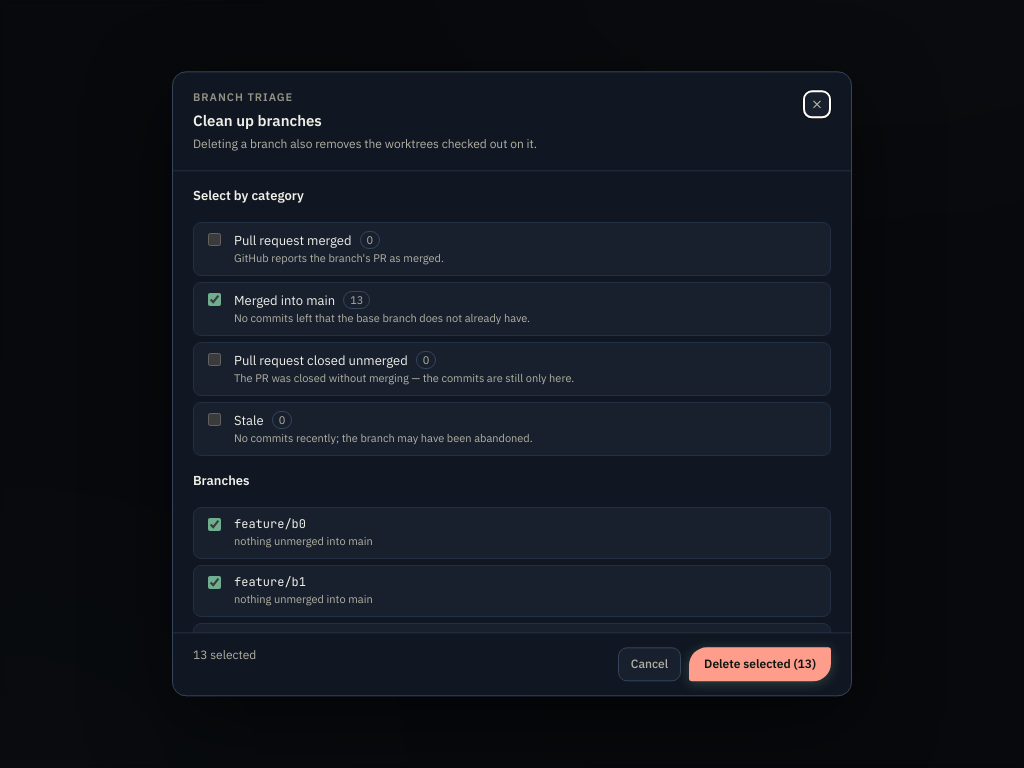
Test: a double-digit run shows ten rows and hides the rest behind a disclosure
Click the button "Delete selected (13)" at coordinates (760, 664), box [689,647,831,682]
(page scrolled)
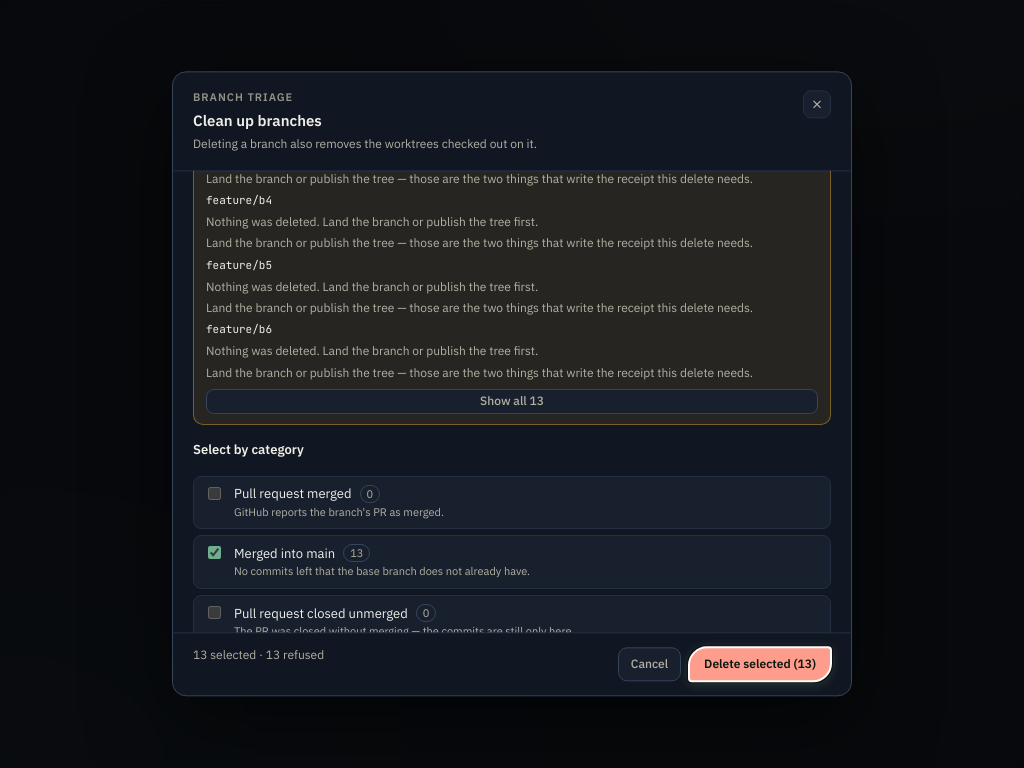
Click the button "Show all 13" at coordinates (512, 402), box [206,390,818,414]
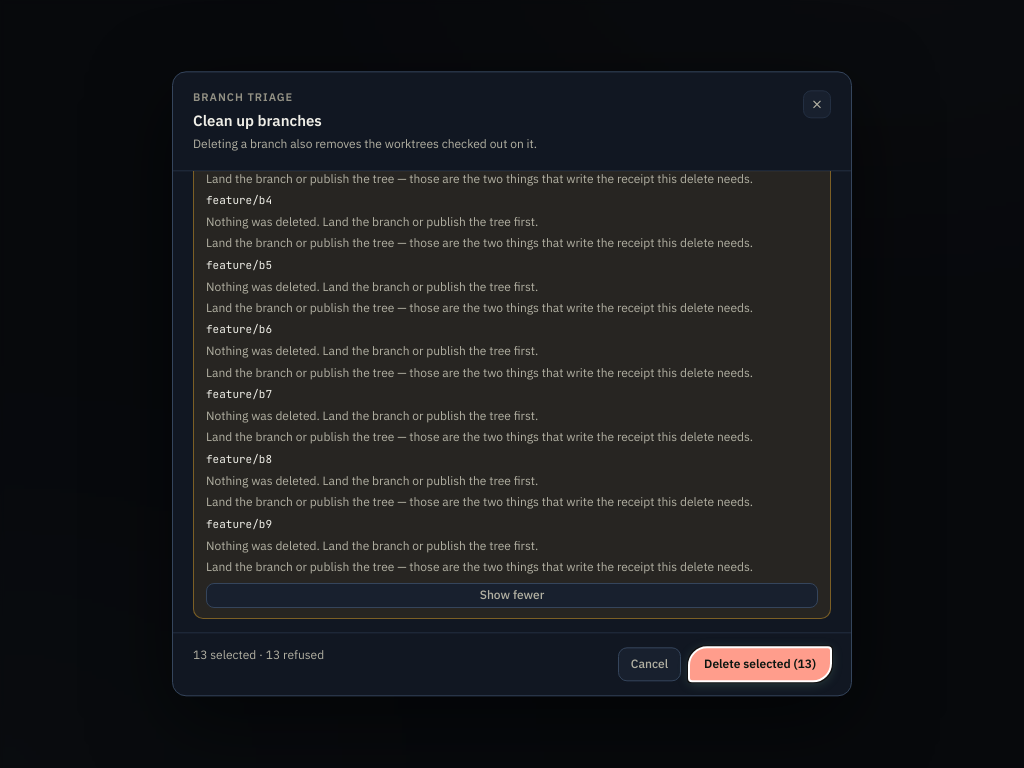
Check: the button named "Show all 13" is expanded, box [206,584,818,608]
